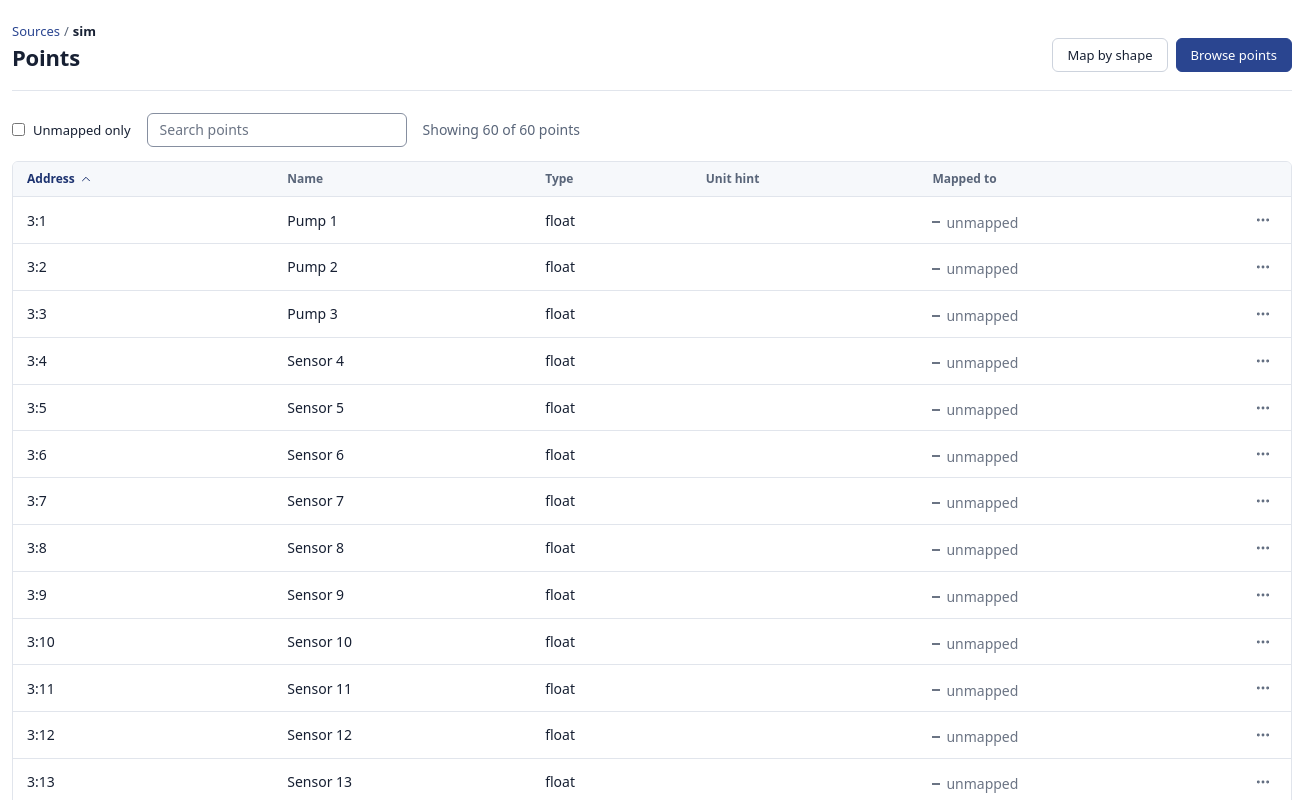
Scenario: SourcePointsPage sorting, filtering and search › filters by the Search points box and counts what is shown out of all the points
The width and height of the screenshot is (1304, 800).
Expected: the text "3:1" is shown, left=27, top=211, right=47, bottom=230
Expected: the text "Showing 60 of 60 points" is shown, left=423, top=120, right=580, bottom=140
Type "pump" into the search field with placeholder "Search points" at x=277, y=130, box left=147, top=113, right=407, bottom=147
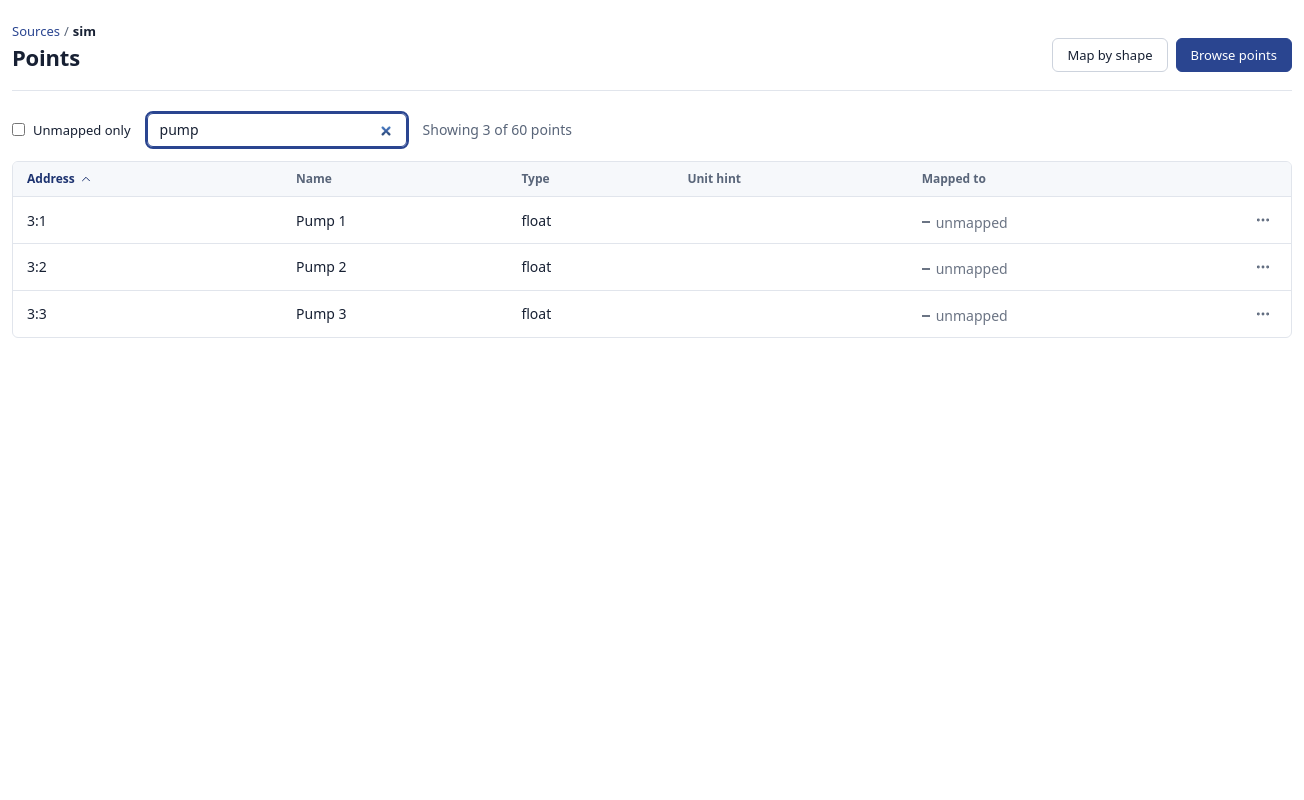
Now the text "Showing 3 of 60 points" is shown, box left=423, top=120, right=572, bottom=140
